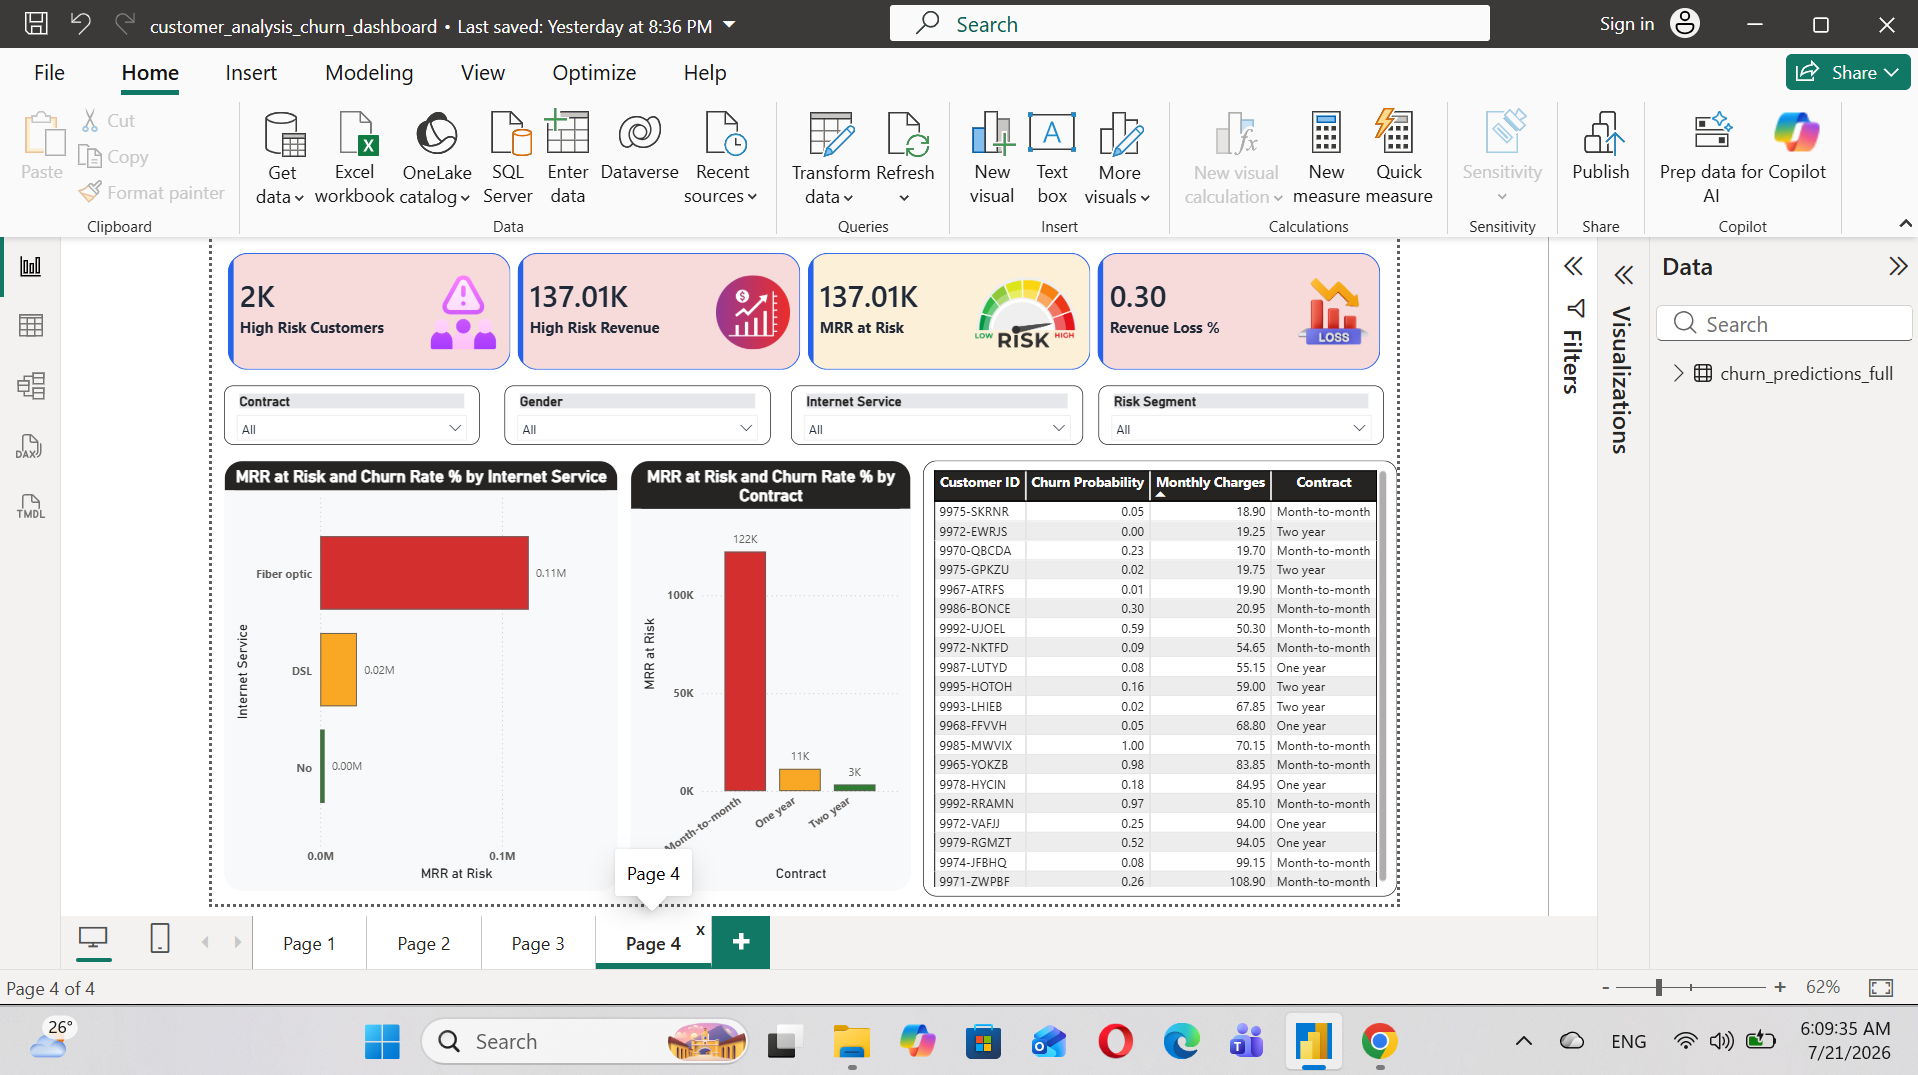

This screenshot's page, from the dashboard's own definition file:
{"tool":"powerbi","page":{"name":"Page 4","canvas":[1280,720],"ordinal":3},"visuals":[{"type":"cardVisual","fields":{"Data":["churn_predictions_full.High Risk Customers","churn_predictions_full.High Risk Revenue","churn_predictions_full.MRR at Risk","churn_predictions_full.Revenue Loss %"]},"box":[0,0,1279.4,160.6],"z":0},{"type":"columnChart","fields":{"Category":["churn_predictions_full.Contract"],"Y":["churn_predictions_full.MRR at Risk"]},"box":[451.7,241.9,302.4,464.9],"z":1000},{"type":"barChart","fields":{"Y":["churn_predictions_full.MRR at Risk"],"Category":["churn_predictions_full.InternetService"]},"box":[13.2,241.9,425.2,464.9],"z":2000},{"type":"tableEx","fields":{"Values":["churn_predictions_full.customerID","churn_predictions_full.churn_probability","churn_predictions_full.MonthlyCharges","churn_predictions_full.Contract"]},"box":[767.2,241.9,512.1,470.6],"z":3000},{"type":"slicer","fields":{"Values":["churn_predictions_full.Contract"]},"box":[13.2,160.6,275.9,64.3],"z":4000},{"type":"slicer","fields":{"Values":["churn_predictions_full.gender"]},"box":[315.6,160.6,287.2,64.3],"z":5000},{"type":"slicer","fields":{"Values":["churn_predictions_full.InternetService"]},"box":[625.5,160.6,315.6,64.3],"z":6000},{"type":"slicer","fields":{"Values":["churn_predictions_full.RiskSegment"]},"box":[956.2,160.6,308,64.3],"z":7000}]}

Visuals, with their boxes on the page's 1280x720 design canvas (x1, y1, x2, y2). These are canvas units, not pixel positions in the 1918x1075 screenshot, which may show the page scaled, cropped or inside an application window:
cardVisual - churn_predictions_full.High Risk Customers x churn_predictions_full.High Risk Revenue: (0,0,1279,161)
columnChart - churn_predictions_full.Contract x churn_predictions_full.MRR at Risk: (452,242,754,707)
barChart - churn_predictions_full.MRR at Risk x churn_predictions_full.InternetService: (13,242,438,707)
tableEx - churn_predictions_full.customerID x churn_predictions_full.churn_probability: (767,242,1279,712)
slicer - churn_predictions_full.Contract: (13,161,289,225)
slicer - churn_predictions_full.gender: (316,161,603,225)
slicer - churn_predictions_full.InternetService: (626,161,941,225)
slicer - churn_predictions_full.RiskSegment: (956,161,1264,225)
